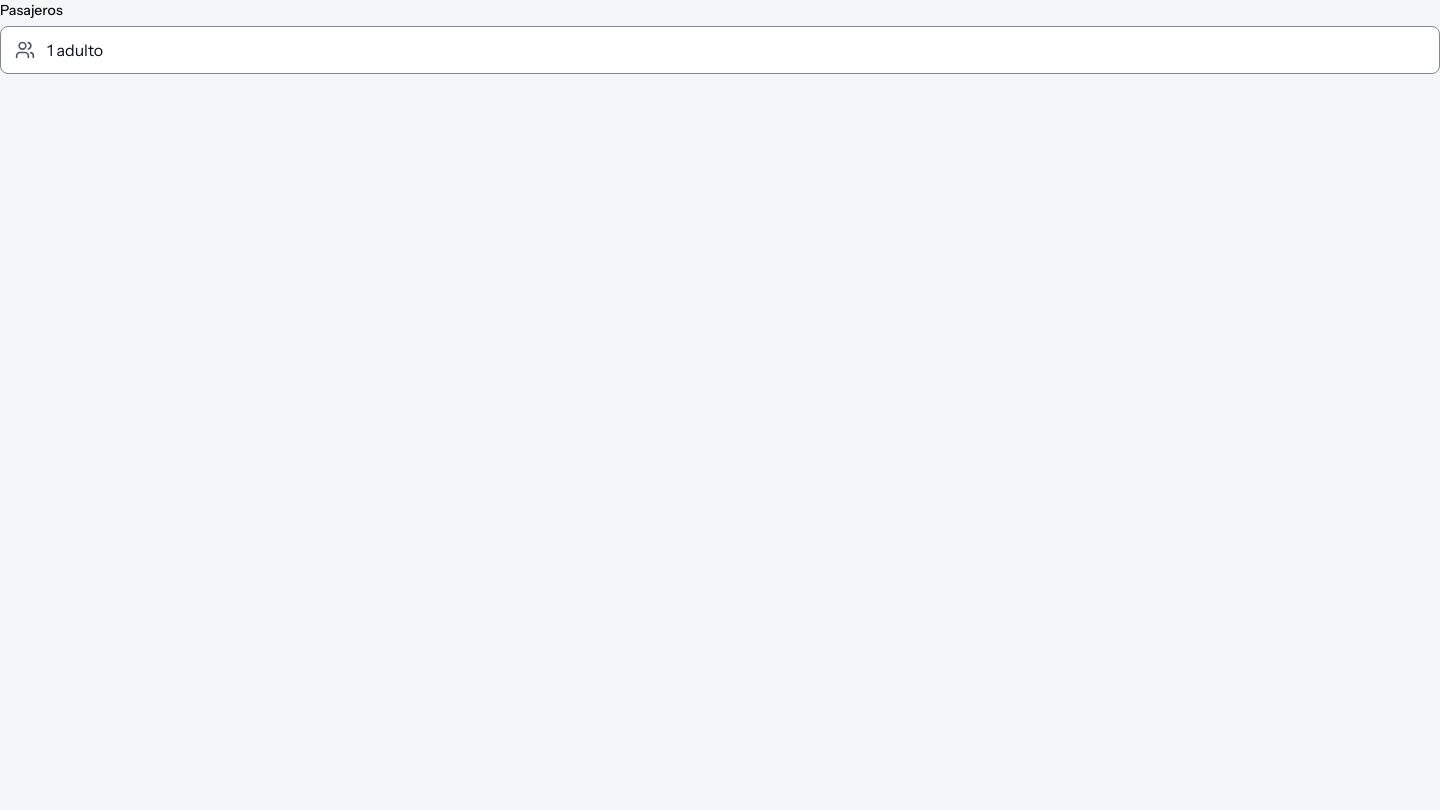
Test: PassengerSelector › shows the youth counter and the 18+ adult text
Click the button "1 adulto": point(75, 50) [0,26,1439,74]
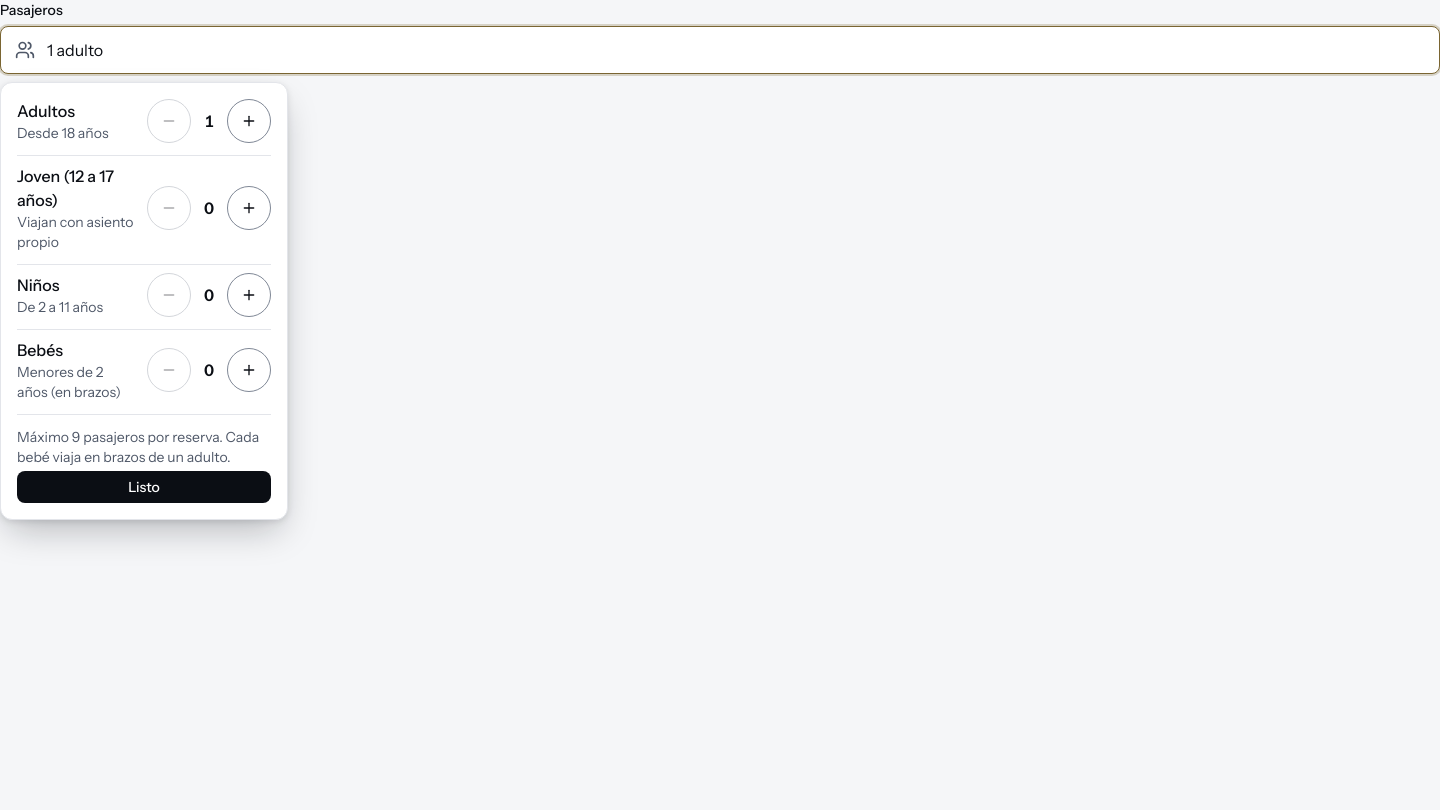
Expected: the text "Joven (12 a 17 años)" is shown, [17,166,114,210]
Expected: the text "Desde 18 años" is shown, [17,123,108,143]
